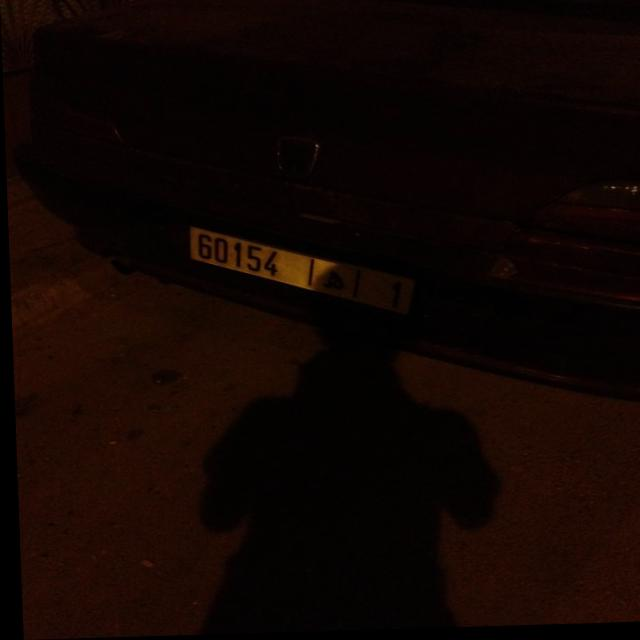License-Plate: (188, 229, 412, 316)
